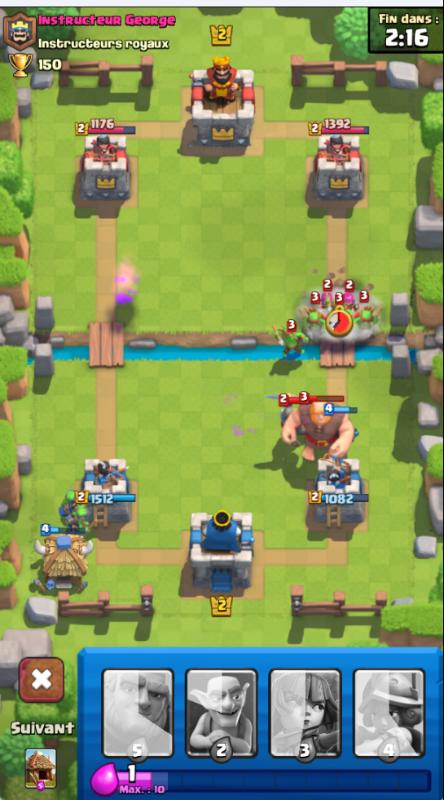archere: (340, 287, 360, 320), (317, 289, 334, 320)
chevalier: (275, 397, 311, 450)
geant: (286, 392, 354, 465)
gobelin_lances: (269, 320, 308, 363), (298, 310, 328, 344), (355, 306, 380, 337), (58, 487, 81, 520), (66, 505, 89, 538)
mini_PEKKA: (327, 406, 360, 451)
